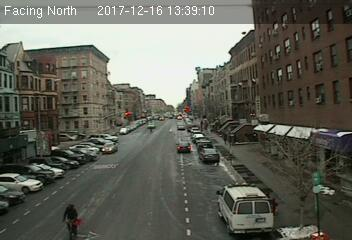bicycle: (62, 201, 82, 240)
car: (200, 149, 219, 162), (178, 142, 193, 153), (102, 142, 117, 152)
police: (216, 180, 272, 234)
